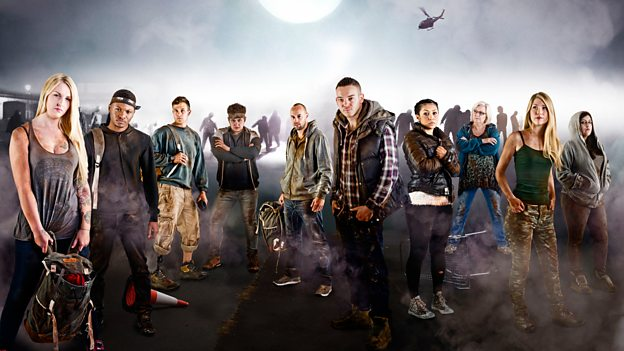human: (2, 73, 91, 346), (494, 92, 578, 331), (84, 88, 160, 340), (329, 76, 400, 340), (398, 99, 461, 319), (149, 95, 207, 293), (278, 103, 335, 289), (205, 102, 263, 274)
